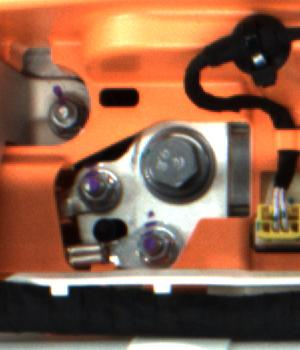nut_b: (132, 122, 227, 214)
